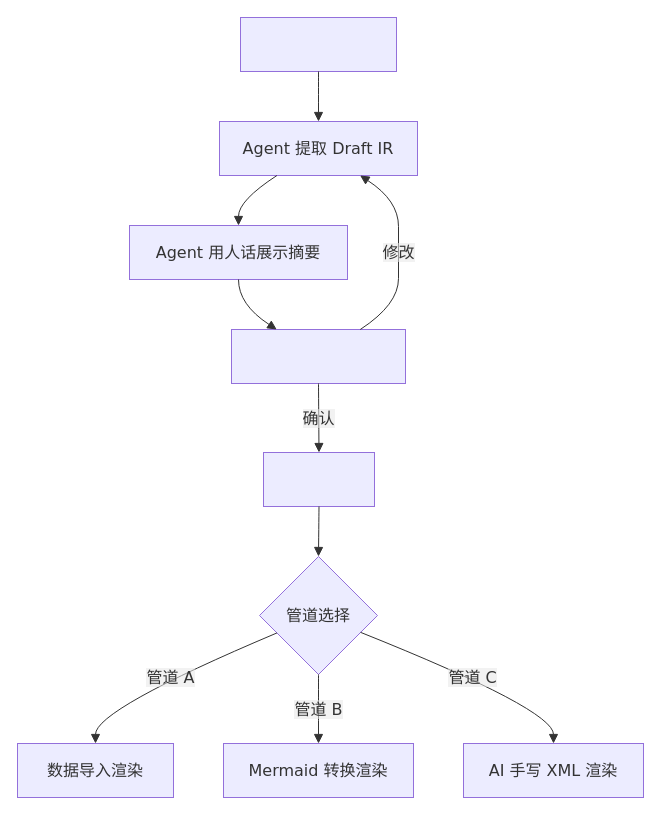
Some shapes in this 661 by 815 pixel diagram are drawn without their labels. The shapes that lost their labels are listed below. From the top down, each one's centre as x and y in pixels, then its label:
point 318,44: 用户自然语言
point 318,356: 用户确认 / 修改
point 318,479: 冻结 IR
